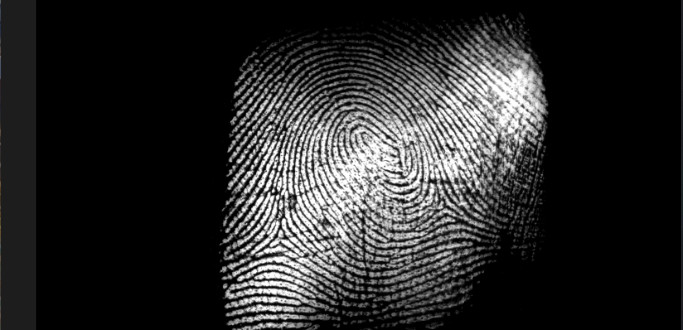deltas: (259, 212, 306, 257), (421, 188, 465, 230)
nucleo: (355, 119, 403, 169)
